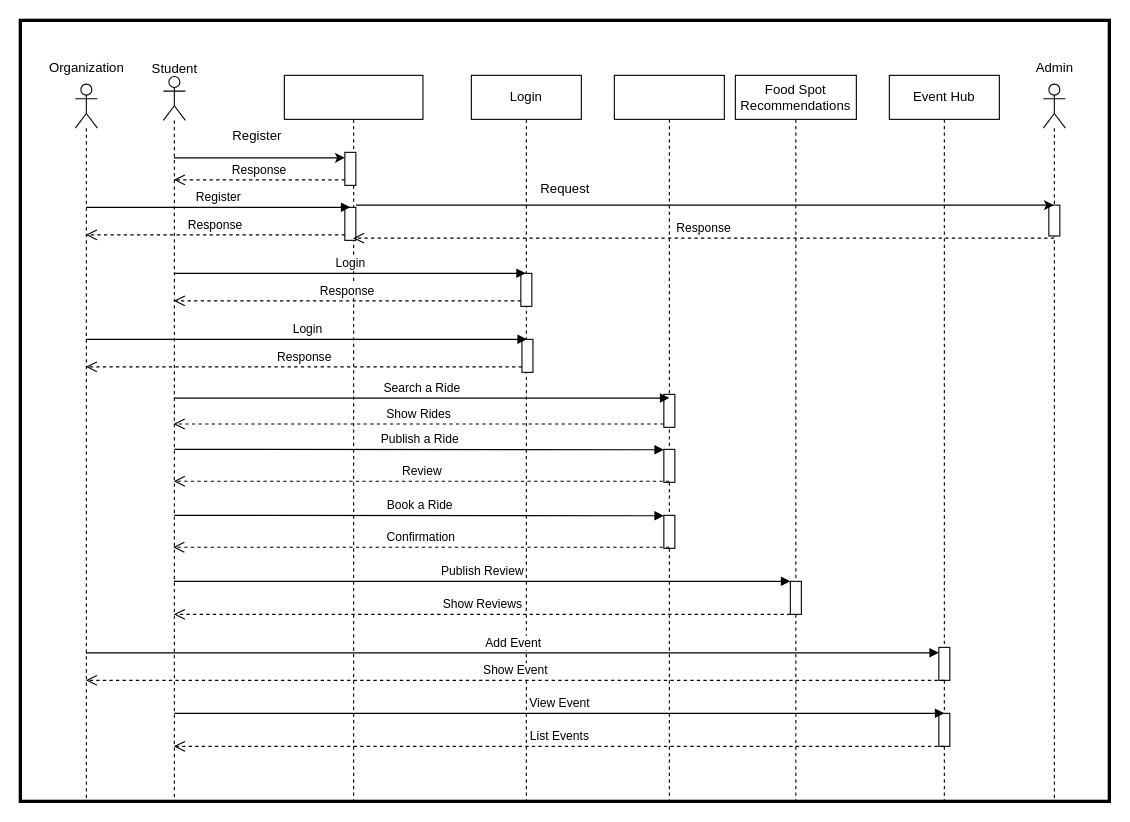
Some shapes in this 1130 by 822 pixel diagram are drawn without their labels. Each missing label, with the box of its shape:
Sign Up: (283, 74, 423, 801)
Vehicle Pooling: (613, 74, 724, 801)
